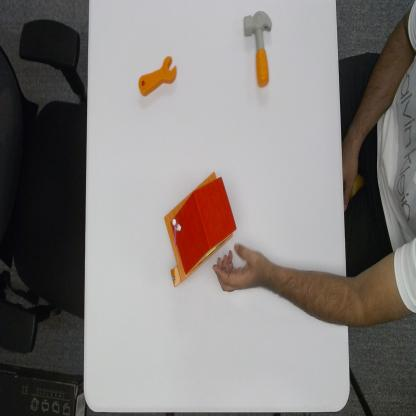Arm: (273, 241, 416, 333)
Hammer: (243, 9, 272, 88)
Hand: (212, 243, 273, 297)
House: (162, 171, 238, 288)
Screwdriver: (137, 54, 178, 98)
